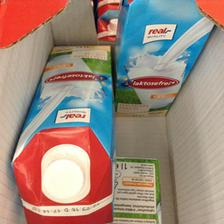Milch: (10, 41, 112, 223), (114, 0, 222, 124)
